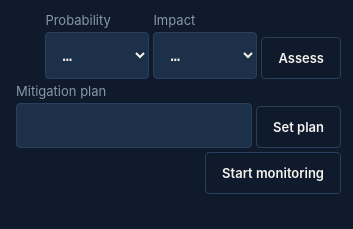
Test case: RiskWorkflowActions — start monitoring › shows the action-returned error message when monitor fails
Click the button "Start monitoring" at (273, 173), box [205,152,341,194]
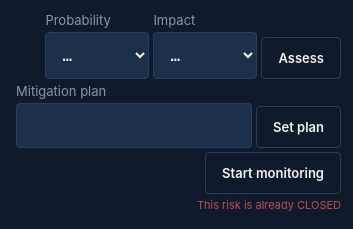
Expected: the text "This risk is already CLOSED" is shown, [197,198,341,212]
